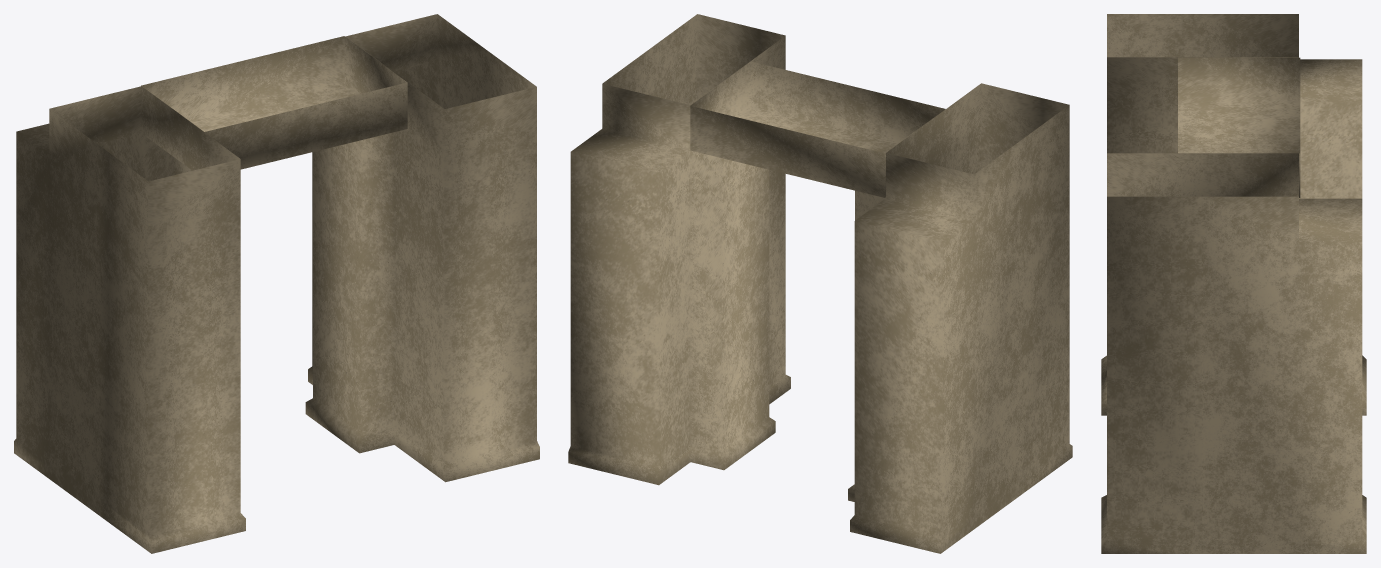
The model's file is gate_low.fbx.
3 renders of one model, left to right at view 1: azimuth 30°, elevation 25°; view 2: azimuth 150°, elevation 25°; view 3: azimuth 270°, elevation 25°, orthographic. The views are drawn at different scales.
Parts seen in each view (by area): view 1: gate_low; view 2: gate_low; view 3: gate_low.
Part boxes in pixels (x1,y1,x2,y2): gate_low: (14, 14, 539, 553); gate_low: (568, 14, 1072, 553); gate_low: (1101, 14, 1366, 553).
Bounding box in the file's own units: 717 × 654 × 440.
